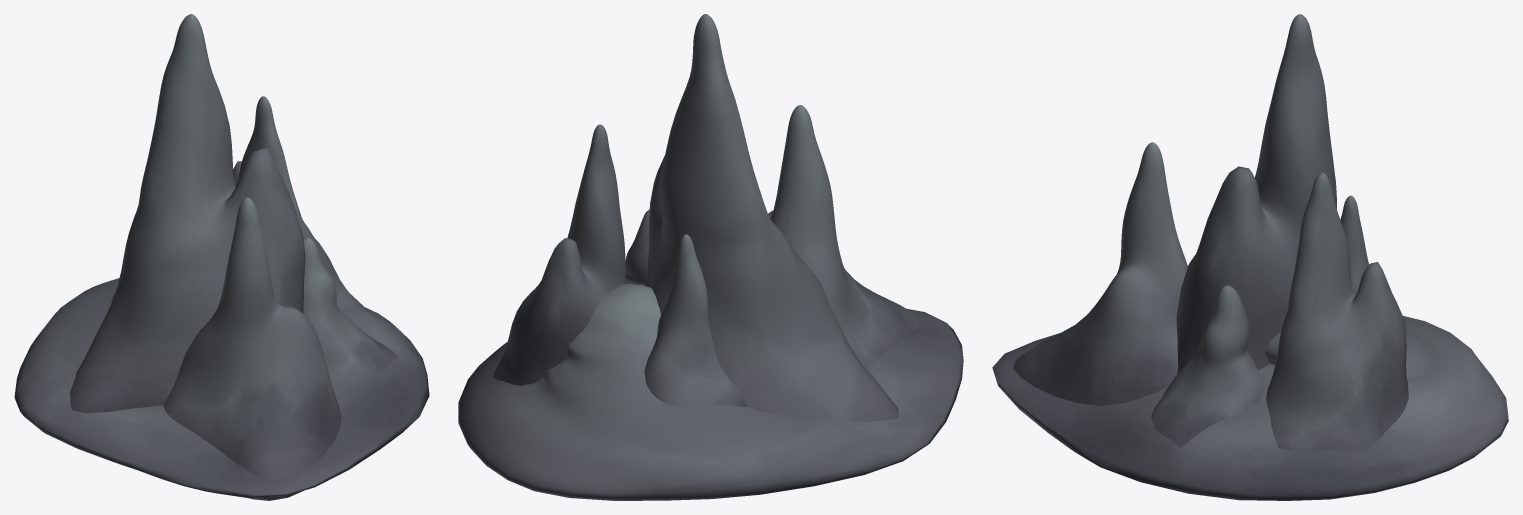
File: StalacGroup.fbx
3 views of the same model, side by side, from view 1: azimuth 30°, elevation 25°; view 2: azimuth 150°, elevation 25°; view 3: azimuth 270°, elevation 25° (orthographic). The views are drawn at different scales.
Visible parts, largest first — view 1: Stalac11; view 2: Stalac11; view 3: Stalac11.
Boxes of the visible parts, box(x1,y1,x2,y2) form: Stalac11: box(14, 14, 429, 500); Stalac11: box(458, 14, 963, 500); Stalac11: box(992, 14, 1508, 500).
Size of the model in its own units: 432 by 430 by 490.
Materials: 1 (1 with a texture image).
